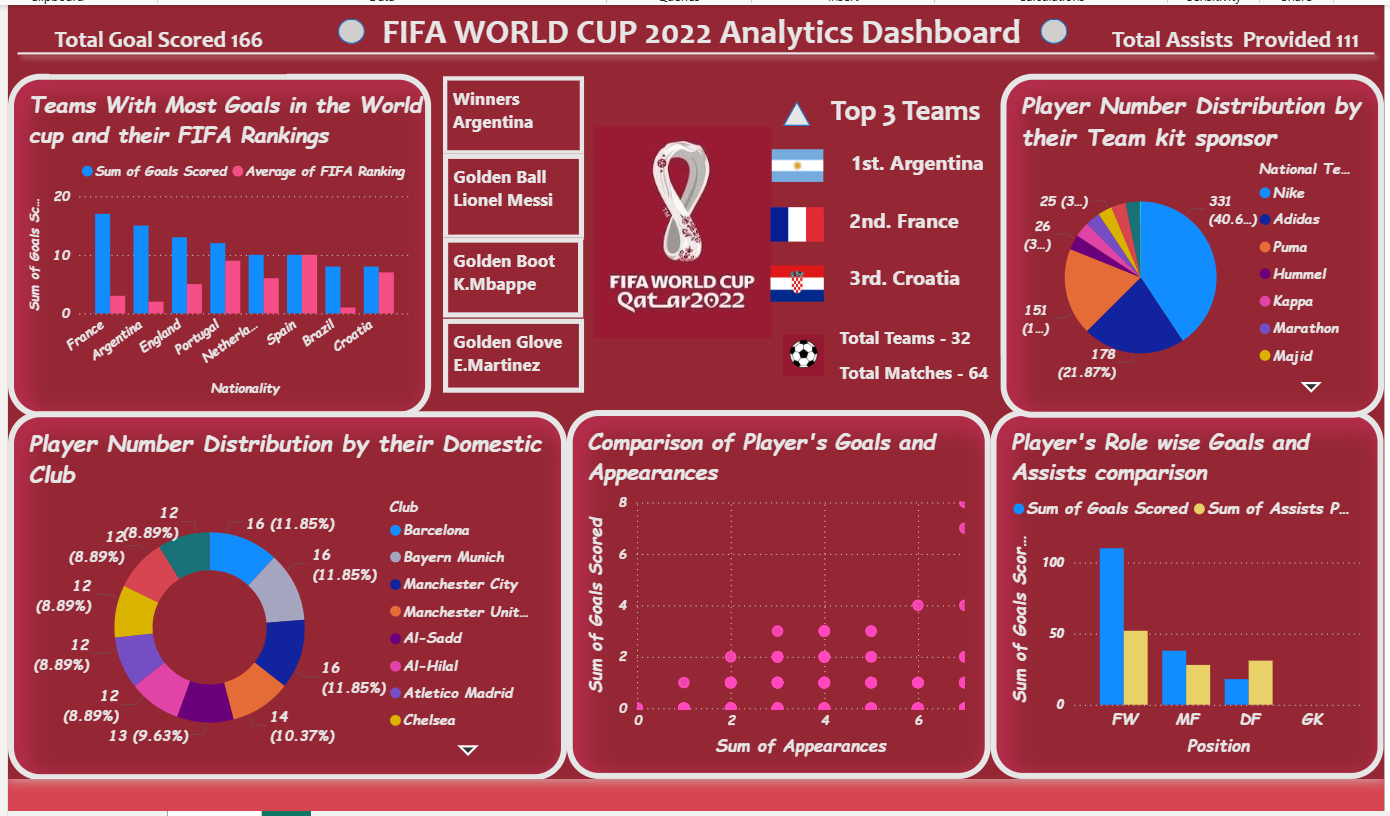

What the dashboard file says about the page in this screenshot:
{"tool":"powerbi","page":{"name":"Page 1","canvas":[1280,720],"ordinal":0},"visuals":[{"type":"clusteredColumnChart","title":"Teams With Most Goals in the World cup and their FIFA Rankings","fields":{"Category":["Sheet1.Nationality"],"Y":["Sum(Sheet1.Goals Scored)","Avg(Sheet1.FIFA Ranking)"]},"box":[0,64.5,393.8,319.7],"z":0},{"type":"clusteredColumnChart","title":"Player''s Role wise Goals and Assists comparison","fields":{"Category":["Sheet1.Position"],"Y":["Sum(Sheet1.Goals Scored)","Sum(Sheet1.Assists Provided)"]},"box":[914.3,377.1,365.7,342.9],"z":1000},{"type":"pieChart","title":"Player Number Distribution by their Team kit sponsor ","fields":{"Y":["CountNonNull(Sheet1.National Team Kit Sponsor)"],"Category":["Sheet1.National Team Kit Sponsor"]},"box":[923.5,64.5,356.8,319.7],"z":2000},{"type":"donutChart","title":"Player Number Distribution by their Domestic Club ","fields":{"Category":["Sheet1.Club"],"Y":["CountNonNull(Sheet1.Club)"]},"box":[0,377.4,520.1,343.1],"z":3000},{"type":"scatterChart","title":"Comparison of Player''s Goals and Appearances ","fields":{"X":["Sum(Sheet1. Appearances)"],"Y":["Sum(Sheet1.Goals Scored)"],"Category":["Sheet1.Player Name"]},"box":[520,377.1,394.3,342.9],"z":4000},{"type":"textbox","box":[141.3,0,946.8,50.8],"z":5000},{"type":"textbox","box":[38.4,13.7,220.9,50.8],"z":6000},{"type":"textbox","box":[1003.1,13.7,260.7,37],"z":7000},{"type":"image","box":[544.8,39.8,164.7,344.4],"z":8000},{"type":"shape","box":[306.7,13.3,25,23.3],"z":9000},{"type":"shape","box":[960,13.3,25,23.3],"z":10000},{"type":"textbox","box":[760,77.1,154.3,61.4],"z":11000},{"type":"image","box":[710.8,119.4,48,59],"z":12000},{"type":"image","box":[709.4,171.5,49.4,64.5],"z":13000},{"type":"image","box":[709.4,225,49.4,67.2],"z":14000},{"type":"textbox","box":[778.6,128.6,135.7,54.3],"z":15000},{"type":"textbox","box":[778,182.5,135.8,53.5],"z":16000},{"type":"textbox","box":[778,236,135.8,56.3],"z":17000},{"type":"image","box":[721.4,300,38.6,51.4],"z":18000},{"type":"textbox","box":[768.6,292.9,134.3,34.3],"z":19000},{"type":"shape","box":[721.4,90,25.7,22.9],"z":20000},{"type":"shape","box":[0,0,1280,90],"z":21000},{"type":"textbox","box":[768.6,325.7,154.3,34.3],"z":22000},{"type":"textbox","box":[404.3,65.7,131.4,72.9],"z":23000},{"type":"textbox","box":[404.3,138.6,131.4,80],"z":24000},{"type":"textbox","box":[404.8,216.8,130.4,74.1],"z":25000},{"type":"textbox","box":[404.3,291.4,131.4,68.6],"z":26000}]}

Visuals, with their boxes in screenshot pixels (x1, y1, x2, y2):
"Teams With Most Goals in the World cup and their FIFA Rankings" clusteredColumnChart: locate(7, 69, 429, 411)
"Player''s Role wise Goals and Assists comparison" clusteredColumnChart: locate(986, 404, 1378, 771)
"Player Number Distribution by their Team kit sponsor " pieChart: locate(996, 69, 1378, 411)
"Player Number Distribution by their Domestic Club " donutChart: locate(7, 404, 564, 772)
"Comparison of Player''s Goals and Appearances " scatterChart: locate(564, 404, 986, 771)
textbox: locate(159, 0, 1173, 54)
textbox: locate(48, 15, 285, 69)
textbox: locate(1081, 15, 1361, 54)
image: locate(591, 43, 767, 411)
shape: locate(336, 14, 362, 39)
shape: locate(1035, 14, 1062, 39)
textbox: locate(821, 83, 986, 148)
image: locate(768, 128, 820, 191)
image: locate(767, 184, 820, 253)
image: locate(767, 241, 820, 313)
textbox: locate(841, 138, 986, 196)
textbox: locate(840, 195, 986, 253)
textbox: locate(840, 253, 986, 313)
image: locate(780, 321, 821, 376)
textbox: locate(830, 314, 974, 350)
shape: locate(780, 96, 807, 121)
shape: locate(7, 0, 1378, 96)
textbox: locate(830, 349, 996, 386)
textbox: locate(440, 70, 581, 148)
textbox: locate(440, 148, 581, 234)
textbox: locate(441, 232, 580, 312)
textbox: locate(440, 312, 581, 386)
